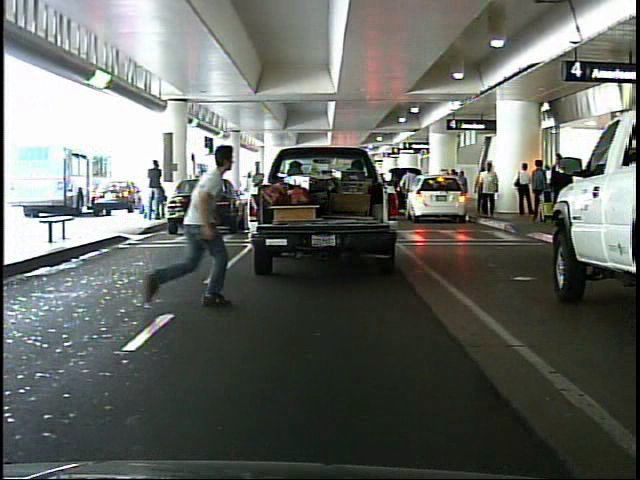person: (125, 123, 248, 318), (473, 156, 501, 225), (530, 158, 552, 225), (515, 156, 537, 219), (147, 157, 169, 219)
